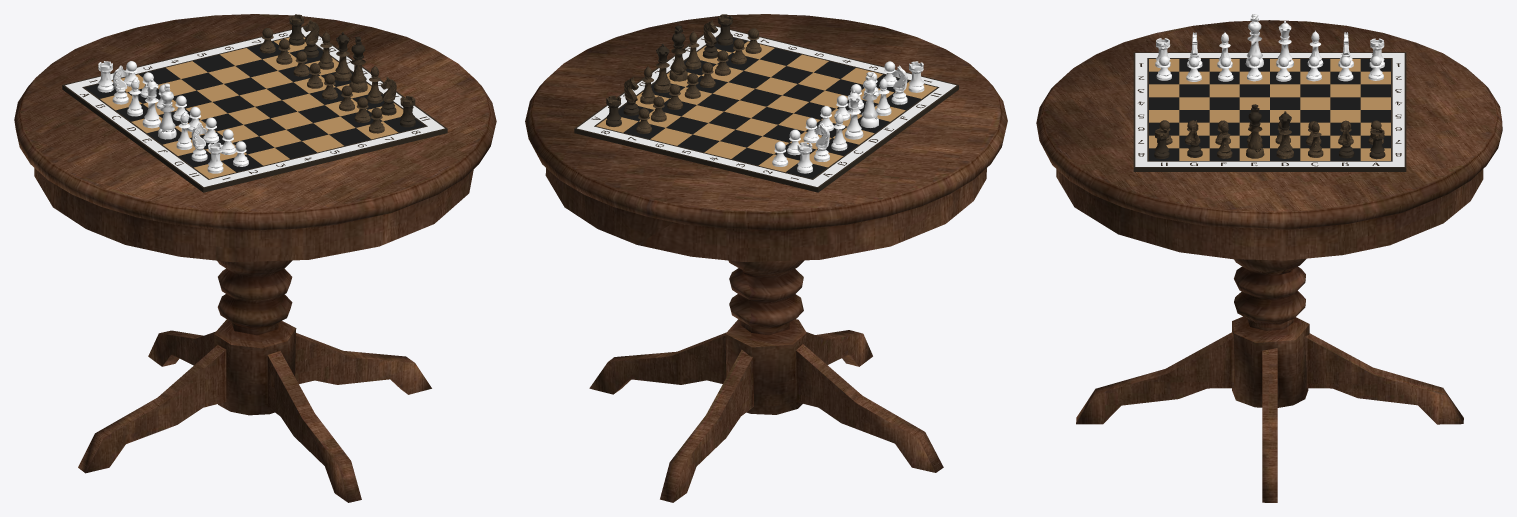
Rendered from botw-chess-006.glb.
The picture shows the model from 3 angles, left to right: view 1: azimuth 30°, elevation 25°; view 2: azimuth 150°, elevation 25°; view 3: azimuth 270°, elevation 25°; orthographic projection. The views are drawn at different scales.
Visible parts, largest first — view 1: table, board, K, k, Q, q; view 2: table, board, k, K, Q, q; view 3: table, board, k, K, q.
Part boxes in pixels (x1,y1,x2,y2): table: (14, 14, 496, 502); board: (62, 26, 447, 192); K: (158, 83, 176, 139); k: (349, 36, 367, 92); Q: (142, 79, 160, 128); q: (334, 32, 351, 81); table: (525, 14, 1007, 502); board: (574, 25, 958, 192); k: (669, 25, 687, 81); K: (860, 72, 878, 127); Q: (845, 90, 863, 139); q: (653, 44, 671, 92); table: (1036, 20, 1502, 502); board: (1133, 52, 1406, 171); k: (1246, 104, 1264, 158); K: (1245, 14, 1263, 67); q: (1276, 111, 1293, 158).
Bounding box in the file's own units: 30.41 × 25.97 × 30.36.
5 materials, 3 textured.
